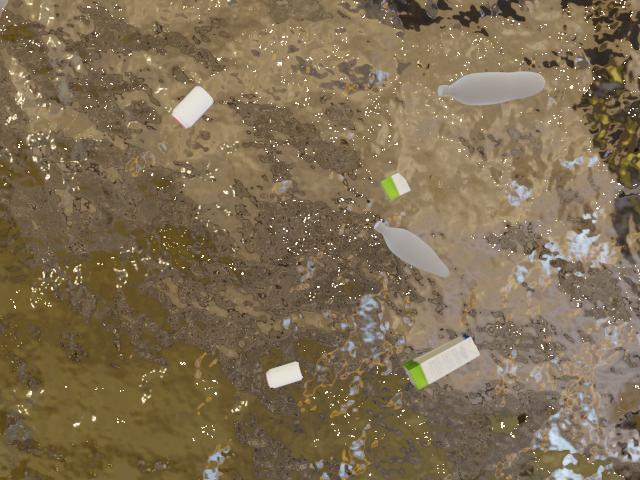Metal: (164, 85, 223, 134), (257, 355, 314, 396)
Plastic: (368, 216, 459, 286), (430, 68, 549, 110)
Trash: (402, 328, 485, 391), (372, 165, 420, 202)
